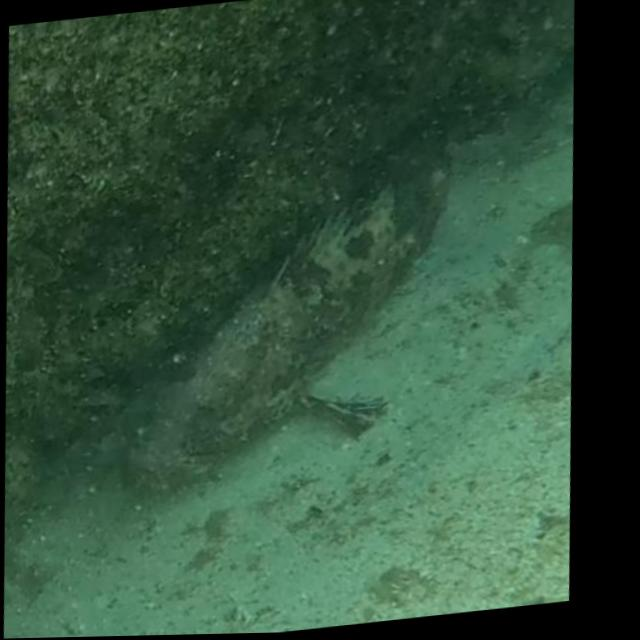Groupers: (86, 135, 488, 502)
